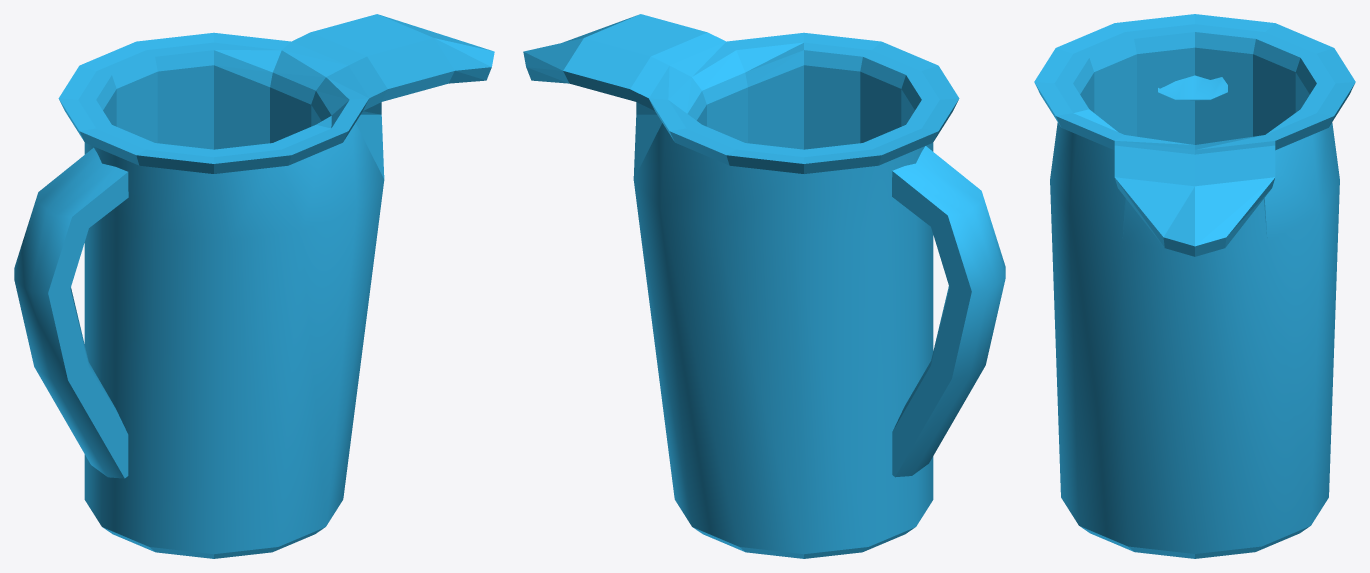
File: SM_large_glass.fbx
The picture shows the model from 3 angles, left to right: view 1: azimuth 30°, elevation 25°; view 2: azimuth 150°, elevation 25°; view 3: azimuth 270°, elevation 25°; orthographic projection. The views are drawn at different scales.
Parts seen in each view (by area): view 1: large_glass; view 2: large_glass; view 3: large_glass.
Boxes of the visible parts, left/top/right/bottom form: large_glass: left=14, top=14, right=494, bottom=558; large_glass: left=523, top=14, right=1005, bottom=558; large_glass: left=1034, top=14, right=1355, bottom=558.
Size of the model in its own units: 36.43 by 30.75 by 20.72.
